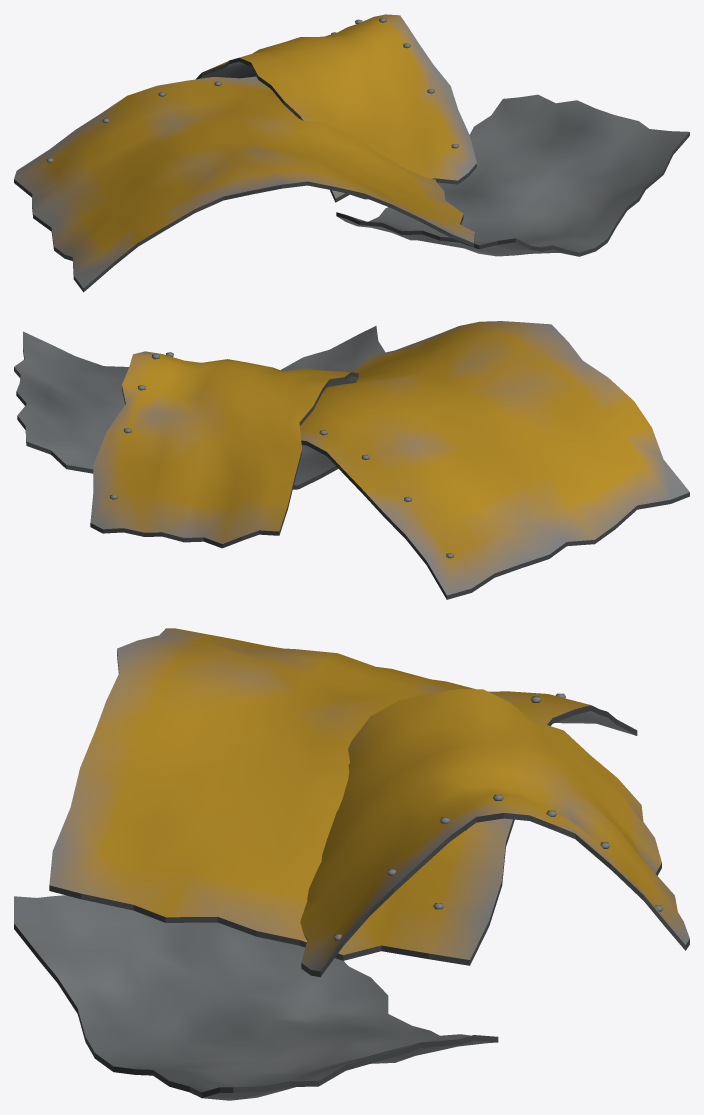
Rendered from debris.glb.
The picture shows the model from 3 angles, top to bottom: view 1: azimuth 30°, elevation 25°; view 2: azimuth 150°, elevation 25°; view 3: azimuth 270°, elevation 25°; orthographic projection. The views are drawn at different scales.
Parts seen in each view (by area): view 1: debris; view 2: debris; view 3: debris.
Boxes of the visible parts, x1,y1,x2,y2 form: debris: (14, 14, 689, 292); debris: (14, 321, 689, 599); debris: (14, 628, 689, 1100).
Bounding box in the file's own units: 0.9669 × 0.2461 × 0.6439.
